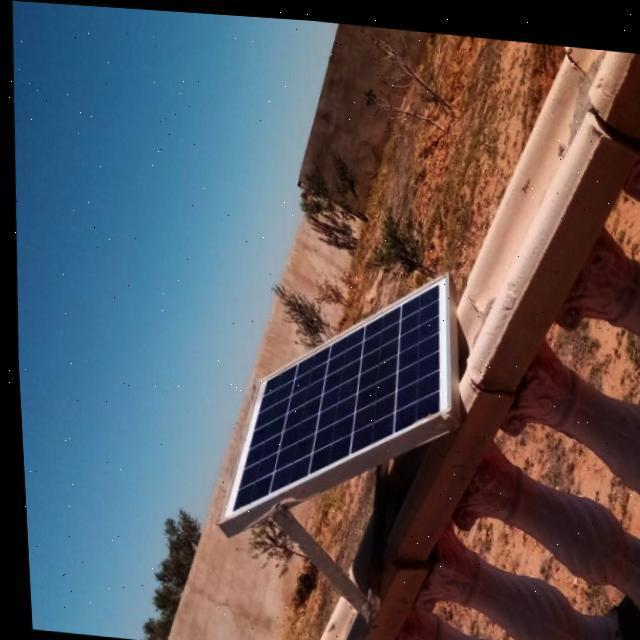Normal Solar Panel: (208, 250, 454, 536)
